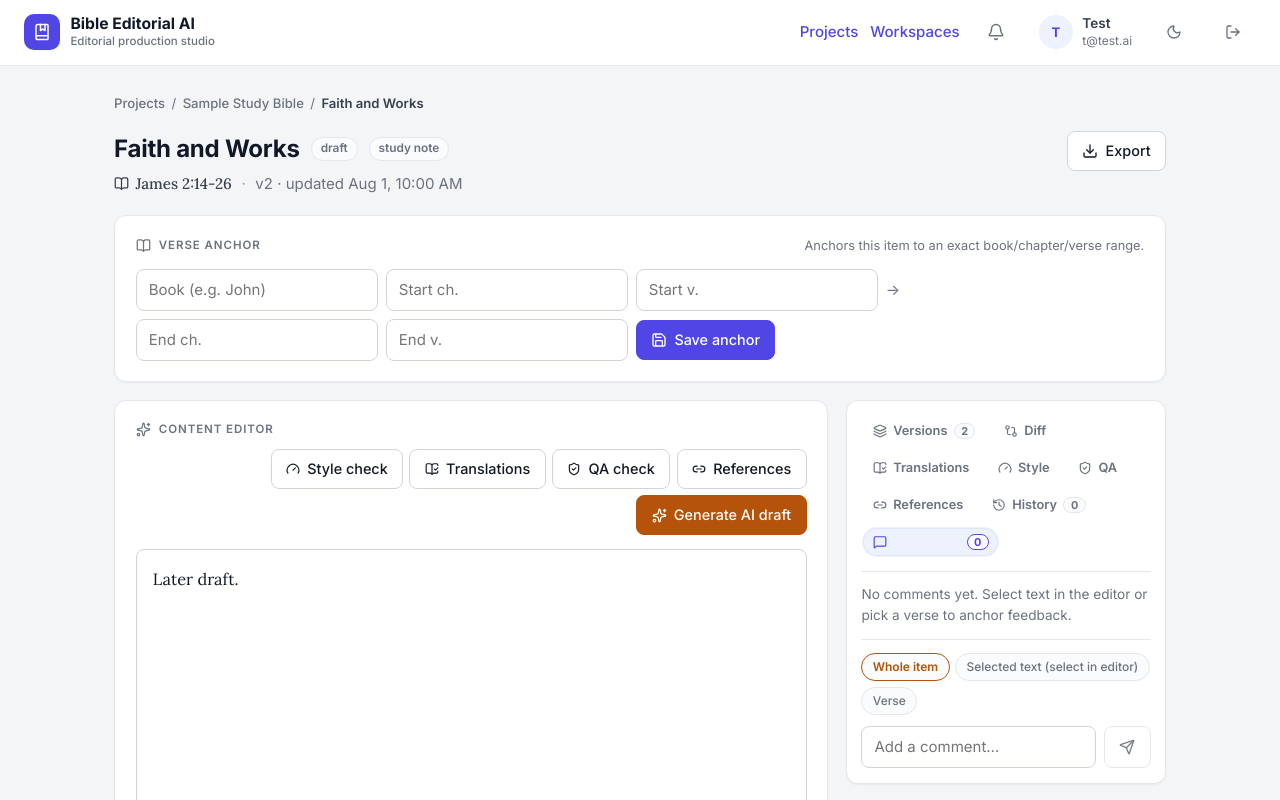
Test case: Editor save-version happy path › deletes a version after confirmation and reloads the list
expect the heading "Faith and Works" is shown: met, box [114, 131, 300, 167]
Click the tab "Versions 2".
click(924, 431)  # box [861, 415, 987, 447]
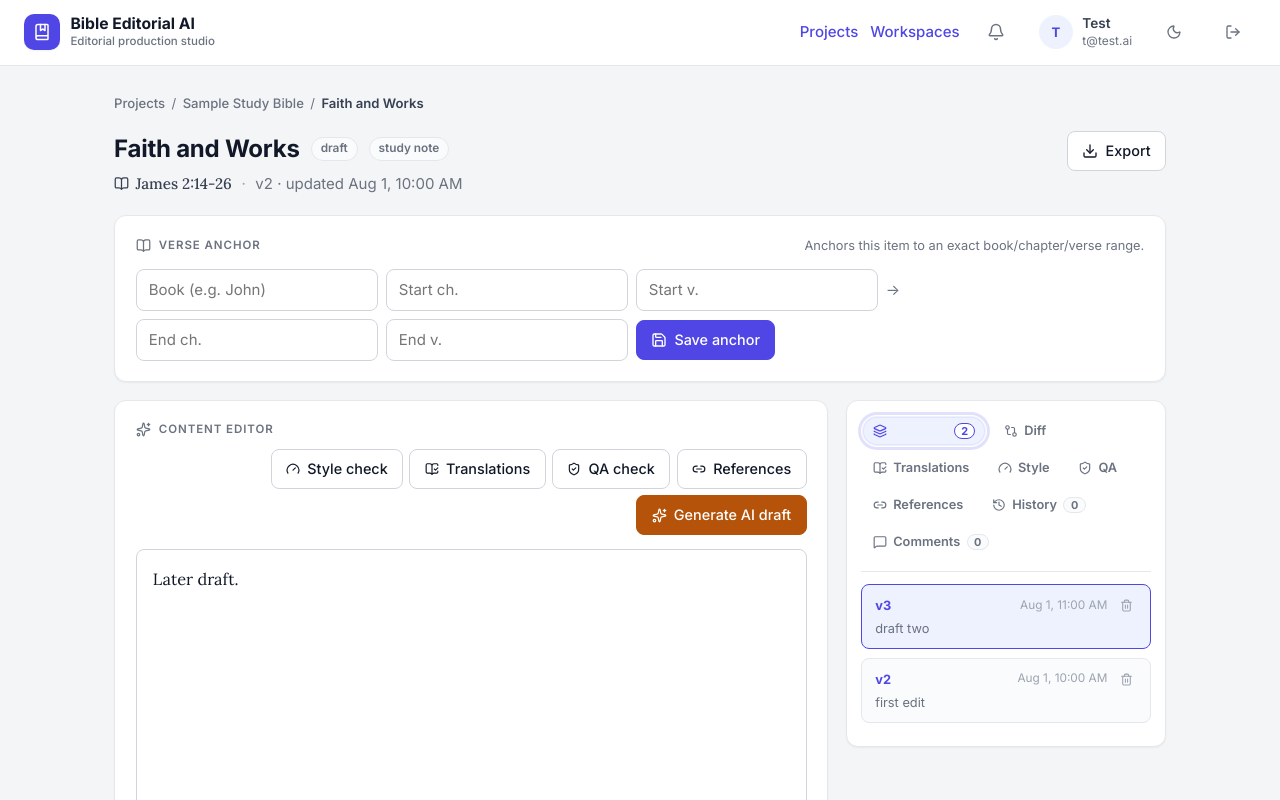
Click the button named "Delete version v3".
click(1126, 606)  # box [1115, 595, 1137, 616]
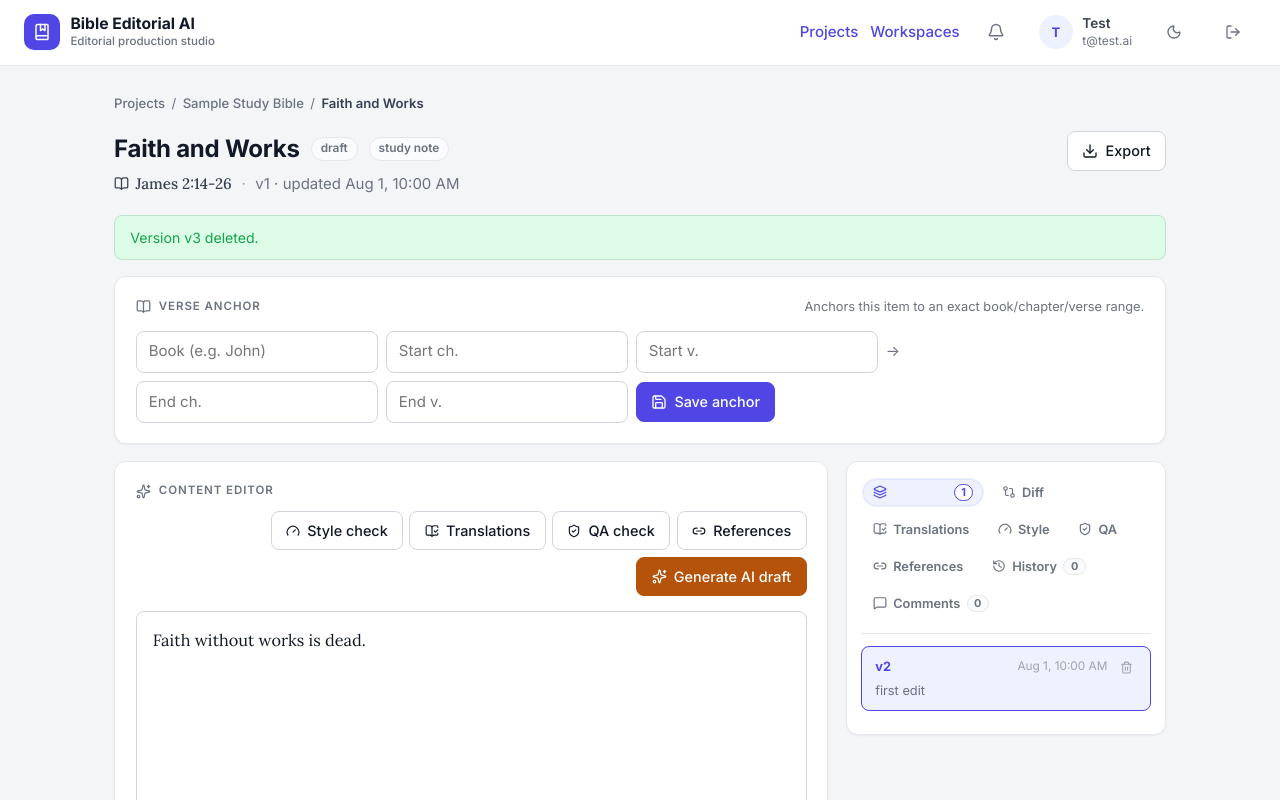
expect the text "Later draft." is not shown: met
expect the text "Version v3 deleted." is shown: met, box [114, 214, 1166, 260]
